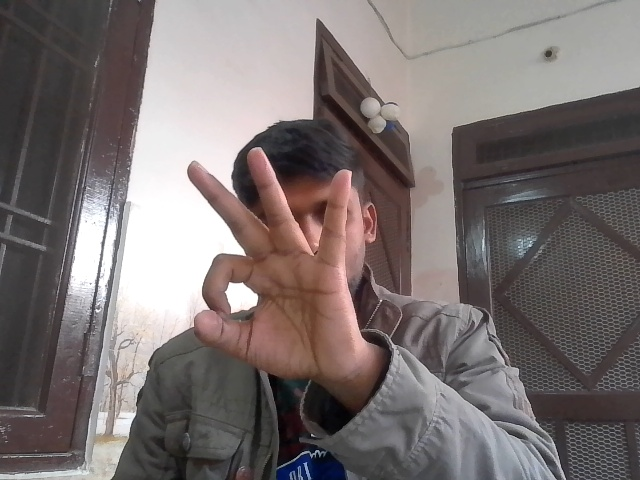Good: (184, 150, 377, 384)
